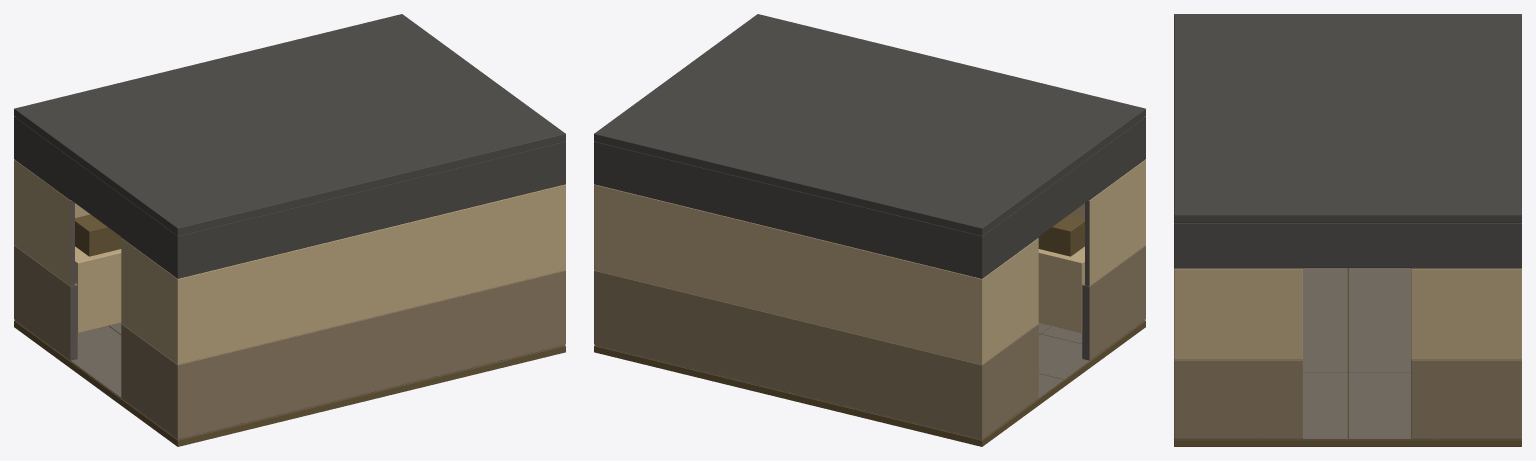
The model's file is gen-lab.glb.
The picture shows the model from 3 angles, left to right: view 1: azimuth 30°, elevation 25°; view 2: azimuth 150°, elevation 25°; view 3: azimuth 270°, elevation 25°; orthographic projection. The views are drawn at different scales.
Parts seen in each view (by area): view 1: THE LAB; view 2: THE LAB; view 3: THE LAB.
Part boxes in pixels (<box>): THE LAB: <box>14,14,565,446</box>; THE LAB: <box>594,14,1145,446</box>; THE LAB: <box>1174,14,1521,446</box>.
Bounding box in the file's own units: 5.2 × 2.8 × 3.8.
